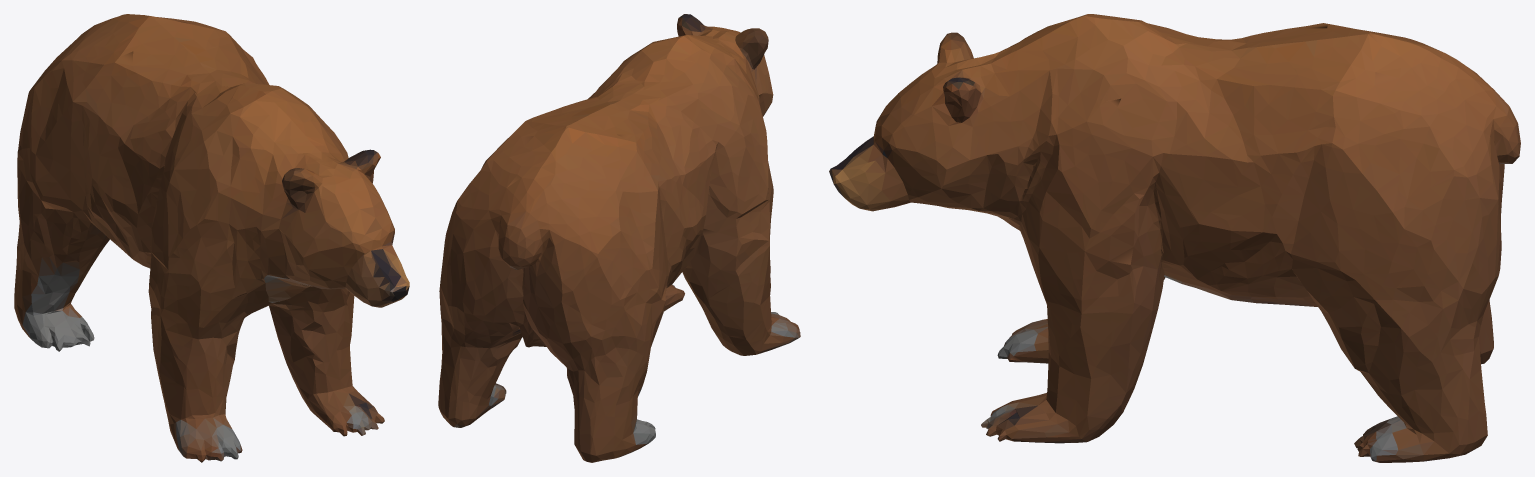
Rendered from higuma.glb.
The picture shows the model from 3 angles, left to right: view 1: azimuth 30°, elevation 25°; view 2: azimuth 150°, elevation 25°; view 3: azimuth 270°, elevation 25°; orthographic projection. The views are drawn at different scales.
Visible parts, largest first — view 1: body, legFL, legFR, legHL; view 2: body, legHL, legFL, legHR; view 3: body, legHR, legFR, legFL.
Boxes of the visible parts, box(x1,y1,x2,y2) form: body: box(17, 14, 409, 330); legFL: box(149, 290, 292, 462); legFR: box(269, 292, 384, 436); legHL: box(14, 218, 150, 351); body: box(439, 14, 773, 358); legHL: box(527, 327, 658, 462); legFL: box(682, 245, 800, 355); legHR: box(438, 304, 532, 427); body: box(829, 14, 1520, 336); legHR: box(1167, 276, 1488, 462); legFR: box(981, 275, 1179, 443); legFL: box(997, 226, 1165, 363).
Size of the model in its own units: 1.3 by 1.81 by 2.95.
